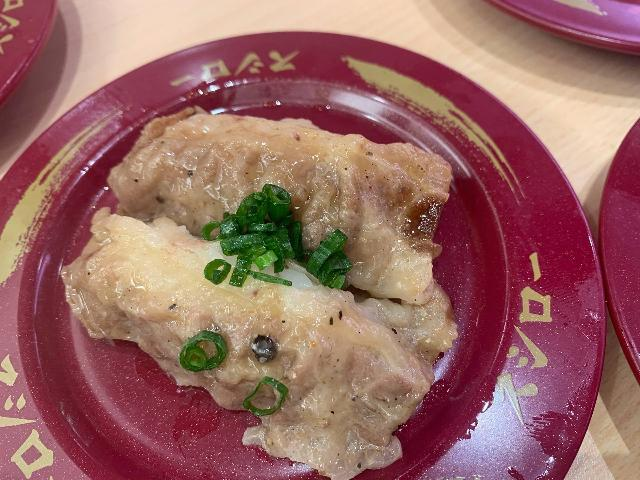janred: (37, 41, 597, 480), (596, 87, 640, 387), (471, 0, 640, 77), (0, 0, 76, 113)
